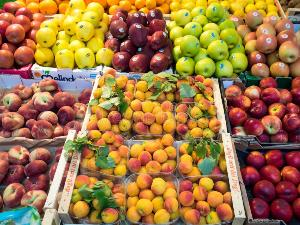apple: (230, 143, 300, 219), (222, 76, 300, 142), (176, 4, 246, 72), (40, 5, 112, 69), (238, 16, 300, 78), (112, 11, 172, 69), (0, 4, 39, 66)
apricot: (127, 175, 179, 224), (76, 176, 126, 224), (181, 175, 229, 225), (128, 138, 178, 172), (82, 135, 126, 173), (179, 142, 223, 178), (131, 100, 174, 136), (176, 104, 216, 138), (91, 100, 131, 134), (176, 80, 220, 104), (136, 79, 176, 101), (97, 76, 134, 98)
peach: (0, 77, 90, 141), (0, 142, 76, 210)
